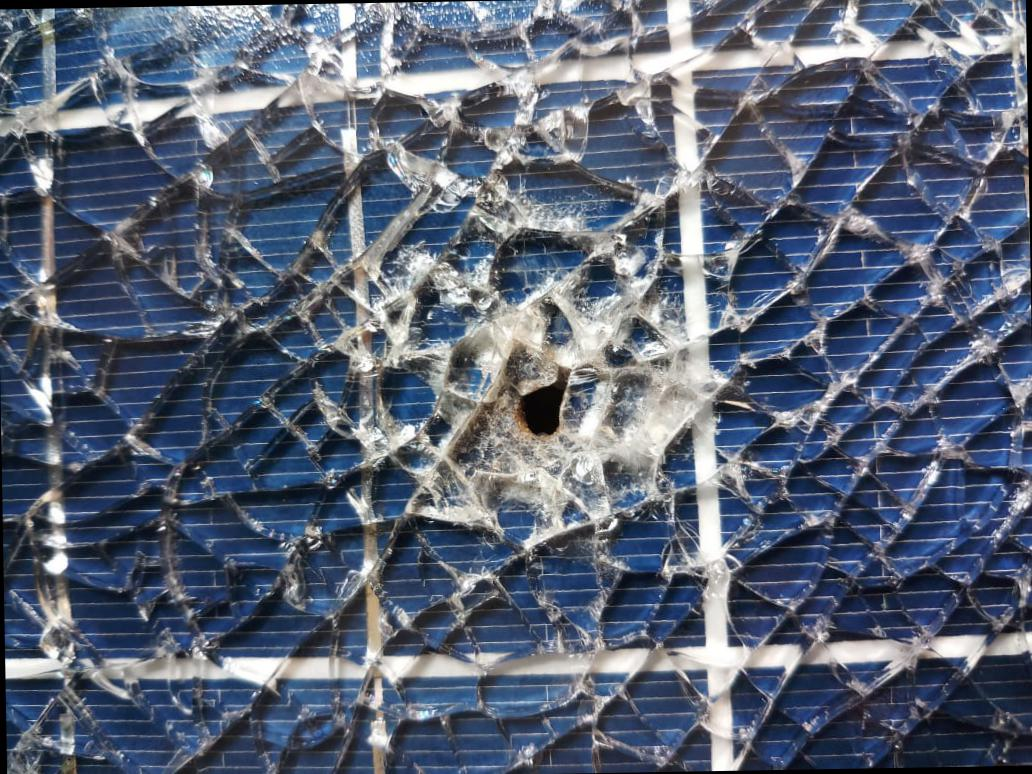Crack: (0, 0, 1026, 773)
